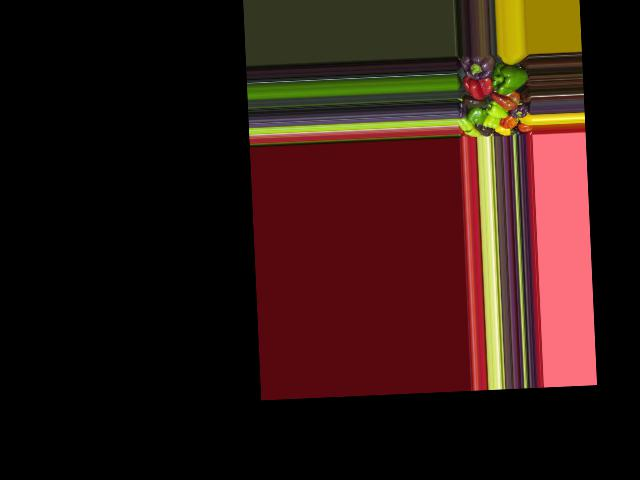bell_pepper: (509, 103, 529, 121)
